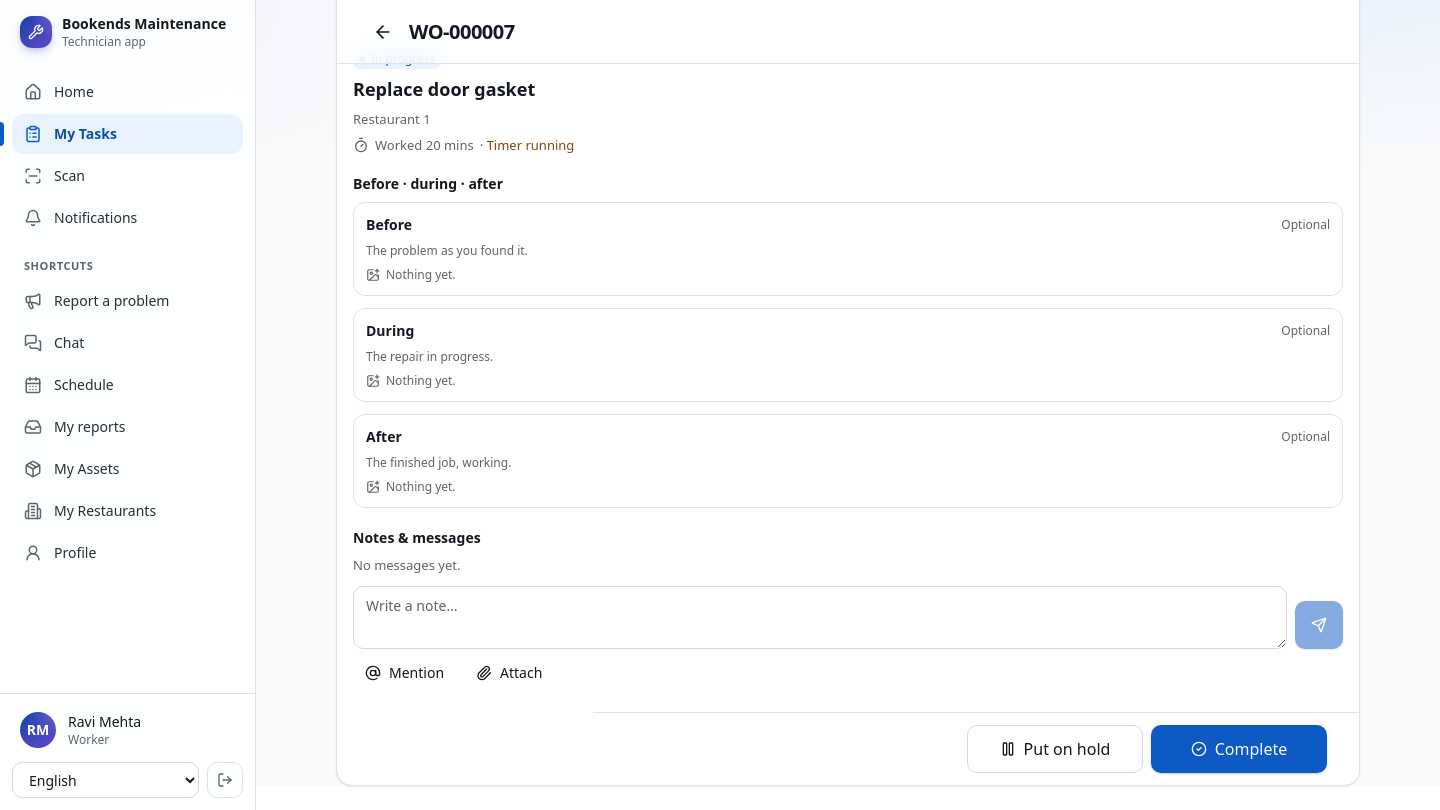
Test: simple completion › shows simple statuses and finishes a job with one tap and a note
The width and height of the screenshot is (1440, 810).
(page scrolled)
Expected: the heading "Replace door gasket" is shown, [353,77,535,101]
Click the button "Complete".
click(1239, 749)  # box [1151,725,1327,773]
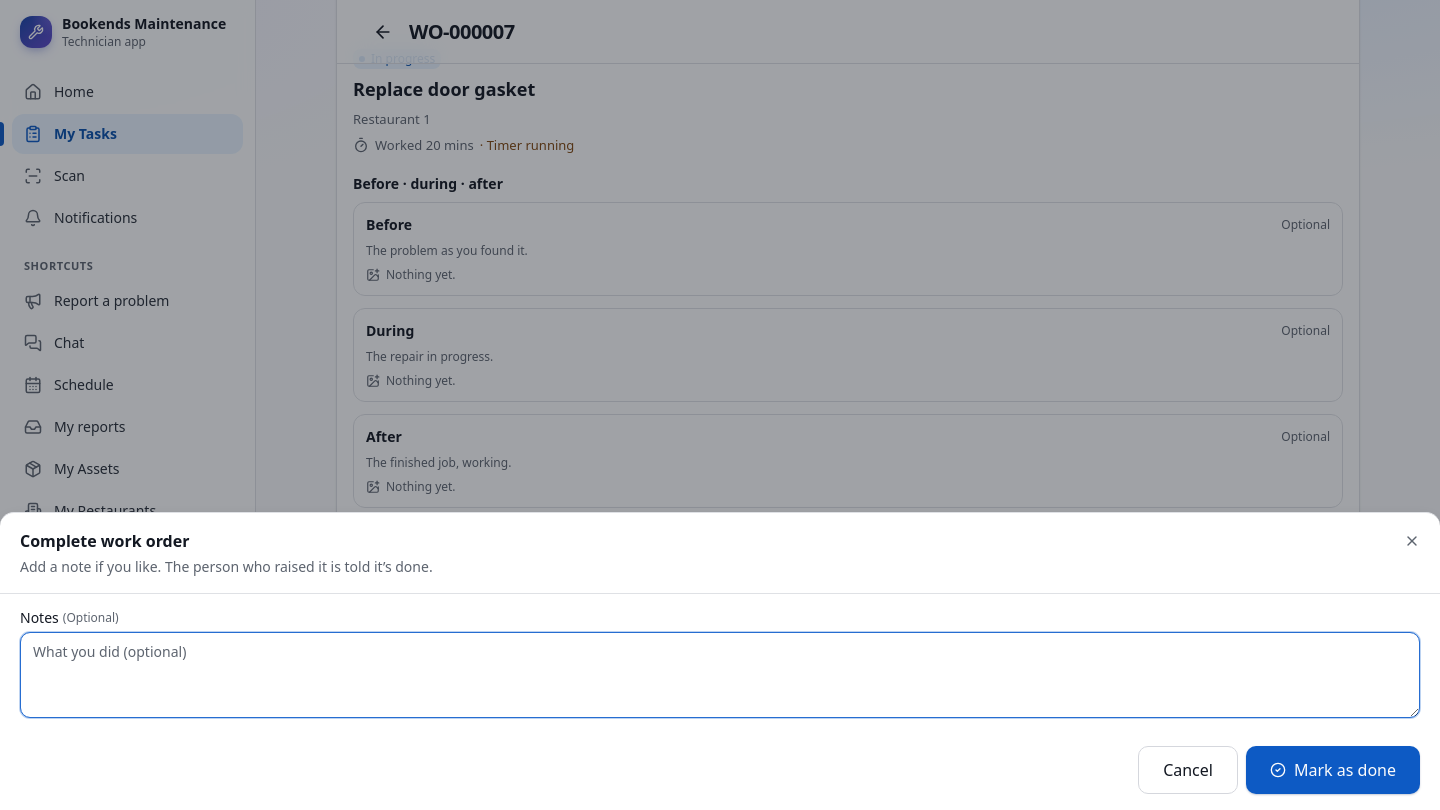
Type "Fitted a new gasket" into the text box labelled "Notes (Optional)".
click(720, 675); type("Fitted a new gasket")  # box [20,632,1420,718]
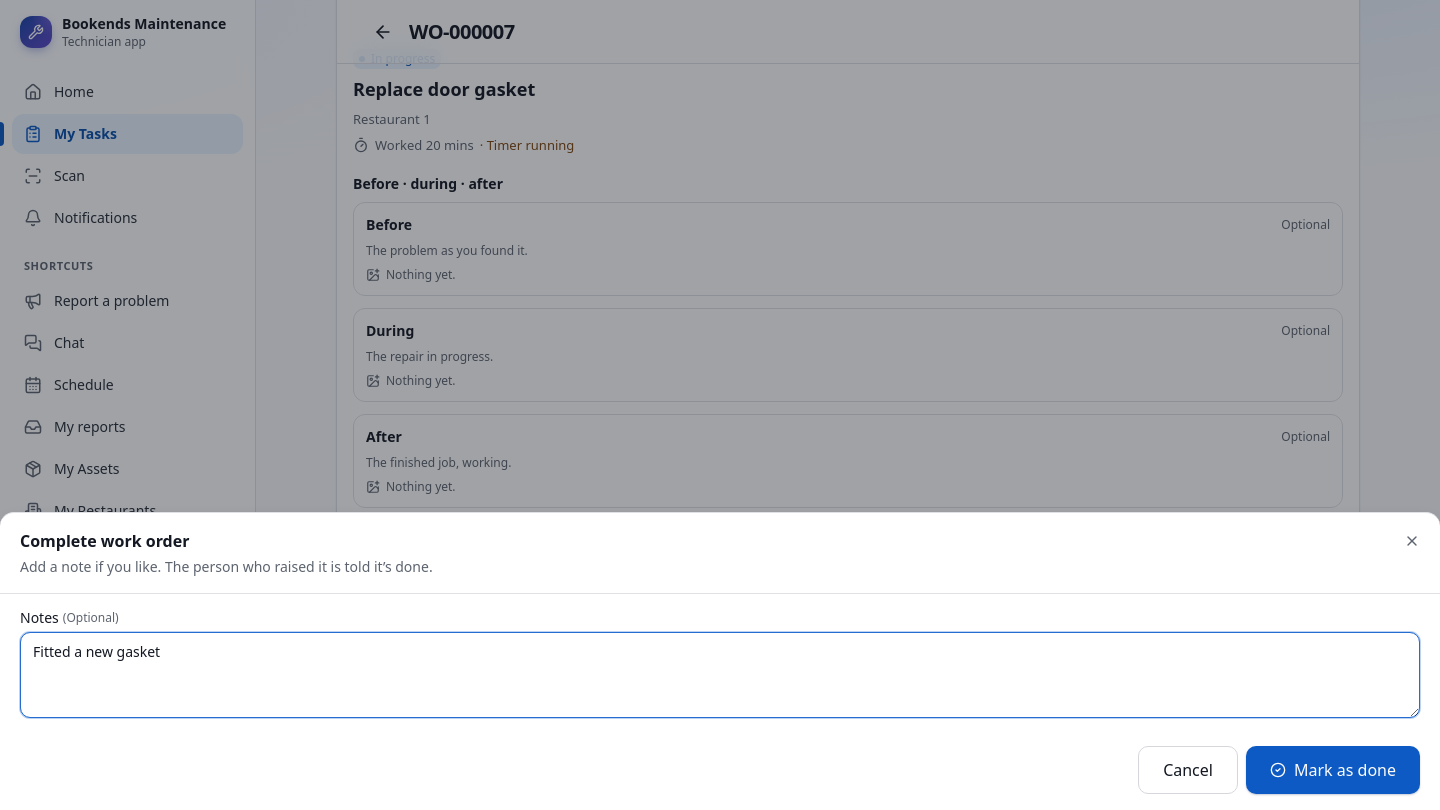
Click the button "Mark as done".
click(1333, 770)  # box [1246,746,1420,794]
(page scrolled)
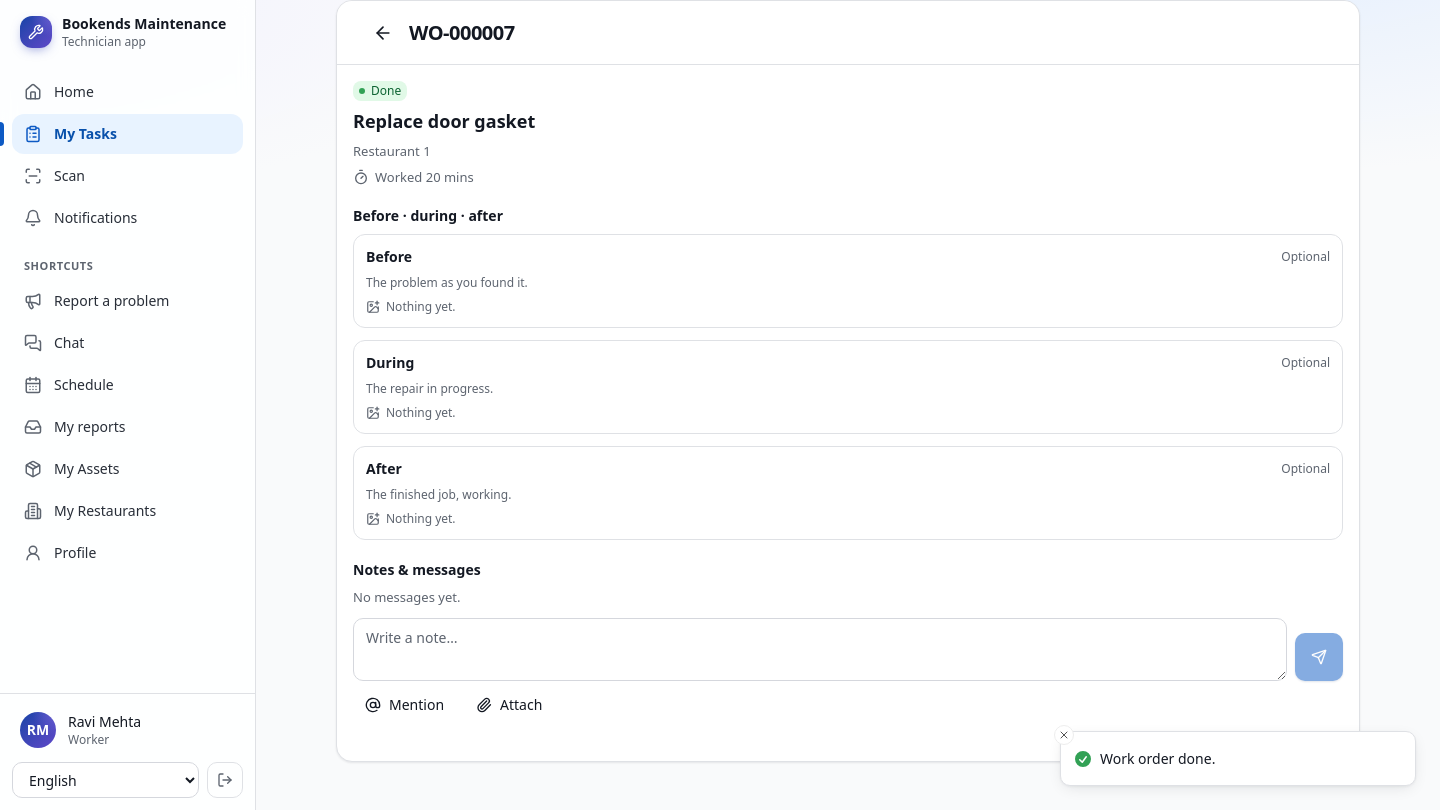
Expected: the text "Work order done." is shown, [1100,748,1215,769]
Expected: the text "Done" is shown, [353,81,407,101]
